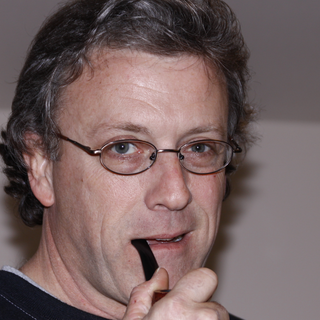eye: (95, 130, 147, 167), (177, 132, 220, 167)
